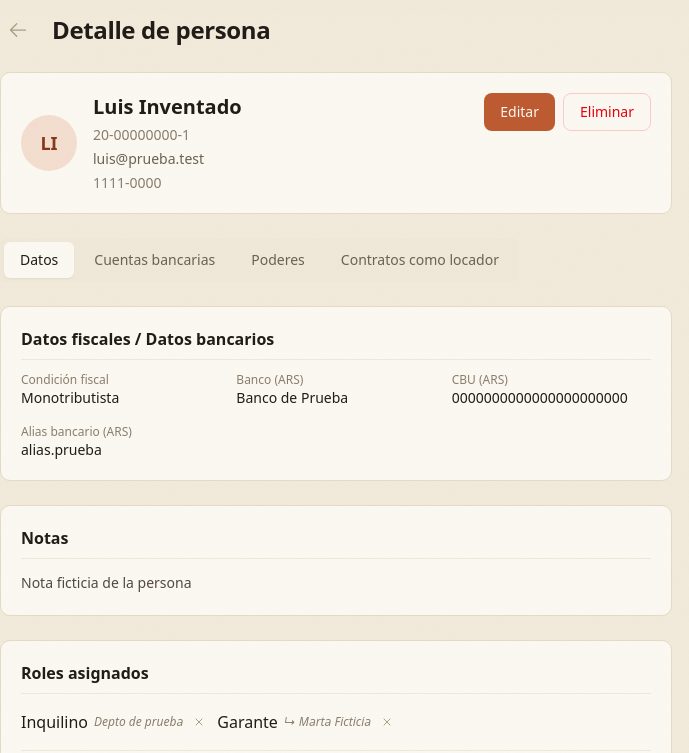
PersonDetailPage › quita un rol y muestra el error si falla
Expected: the heading "Luis Inventado" is shown, x1=93 y1=93 x2=242 y2=121
Click the button titled "Quitar rol" next to "Depto de prueba": click(199, 722) x1=189 y1=712 x2=209 y2=732
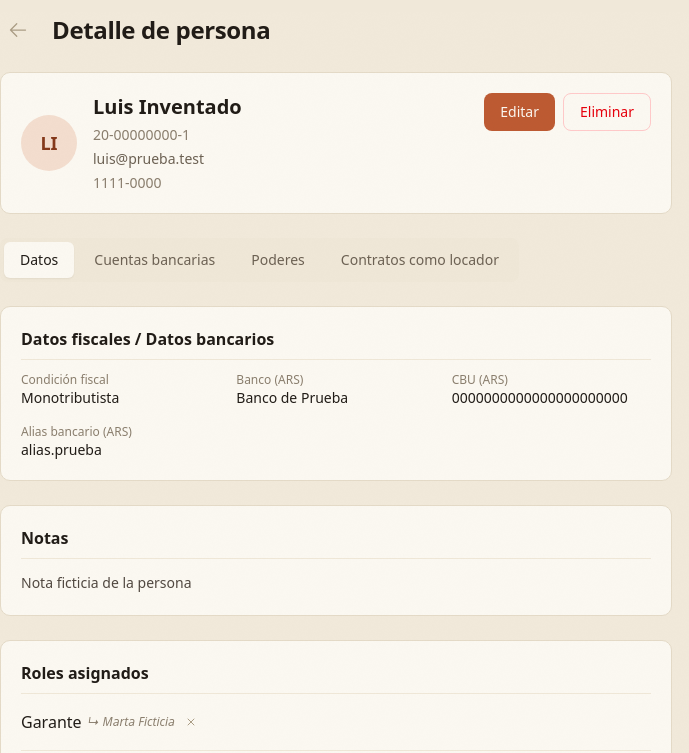
Result: the number of buttons titled "Quitar rol" is 1
Click the button titled "Quitar rol": click(191, 722) x1=181 y1=712 x2=201 y2=732
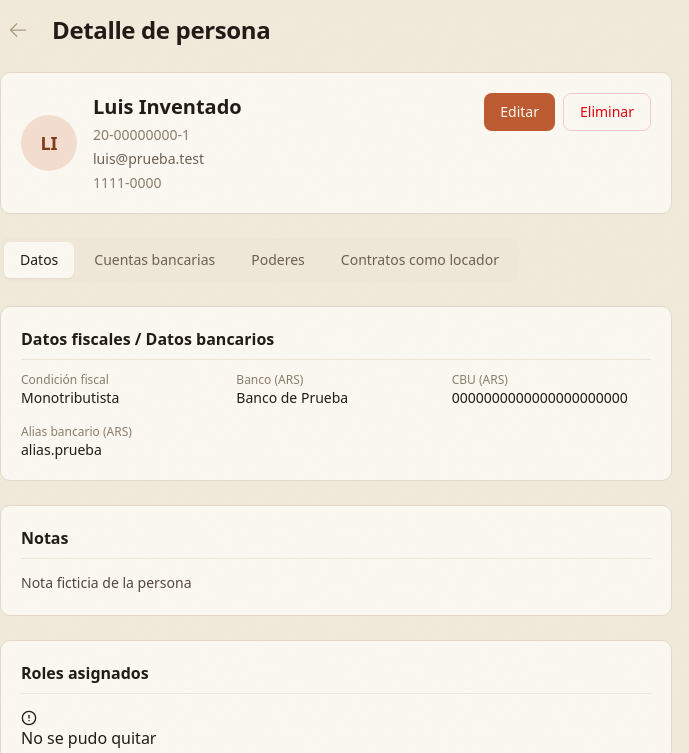
Result: the text "No se pudo quitar" is shown at x1=21 y1=727 x2=156 y2=749
